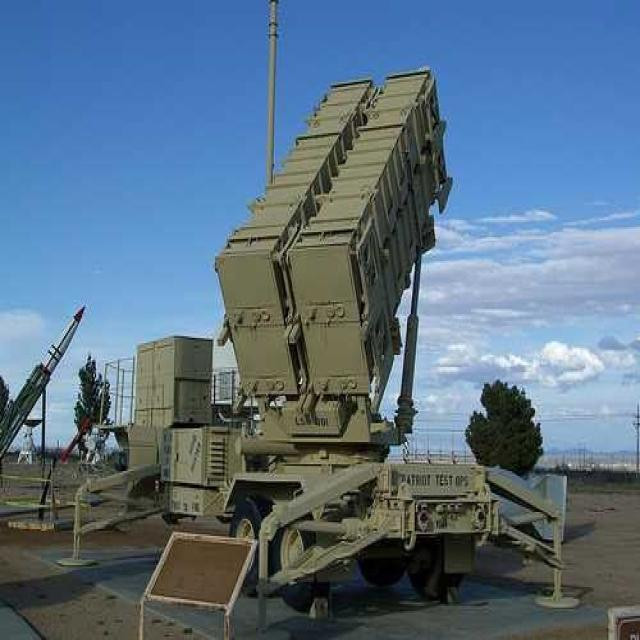missile: (42, 303, 87, 383)
